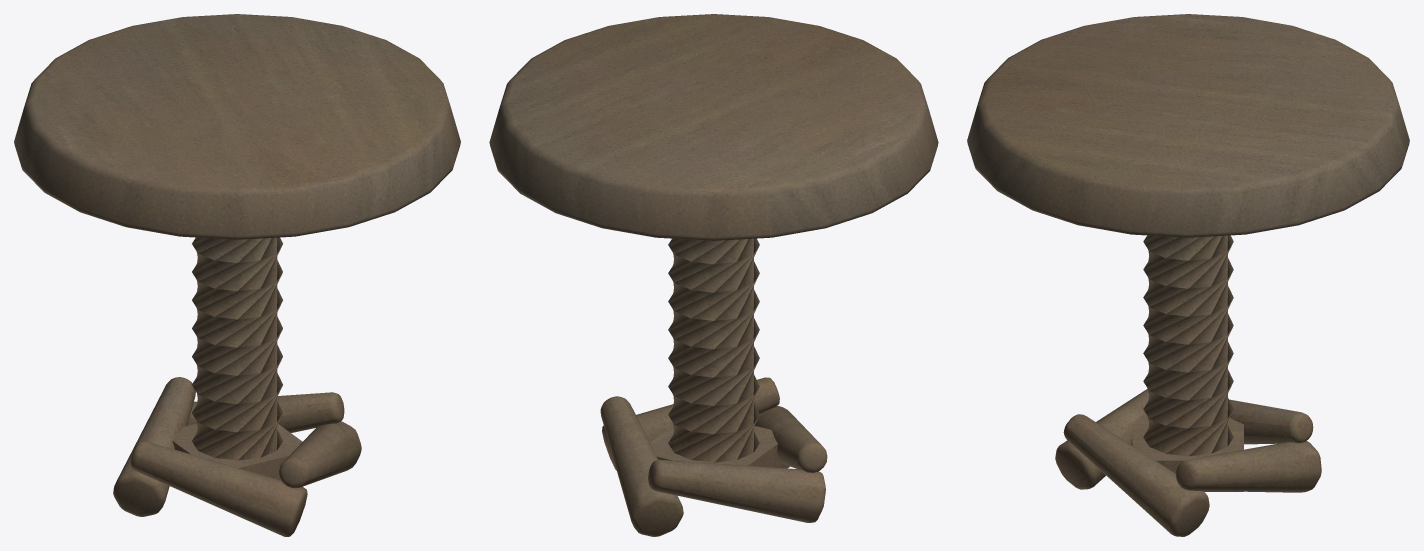
The model's file is Antique_Chair_03.fbx.
3 views of the same model, side by side, from view 1: azimuth 30°, elevation 25°; view 2: azimuth 150°, elevation 25°; view 3: azimuth 270°, elevation 25° (orthographic).
Visible parts, largest first — view 1: Antique_Chair; view 2: Antique_Chair; view 3: Antique_Chair.
Part boxes in pixels (left/top/right/bottom): Antique_Chair: left=14, top=14, right=460, bottom=536; Antique_Chair: left=489, top=14, right=938, bottom=536; Antique_Chair: left=967, top=14, right=1409, bottom=536.
Size of the model in its own units: 0.5388 by 0.5232 by 0.5388.
Materials: 1 (1 with a texture image).
